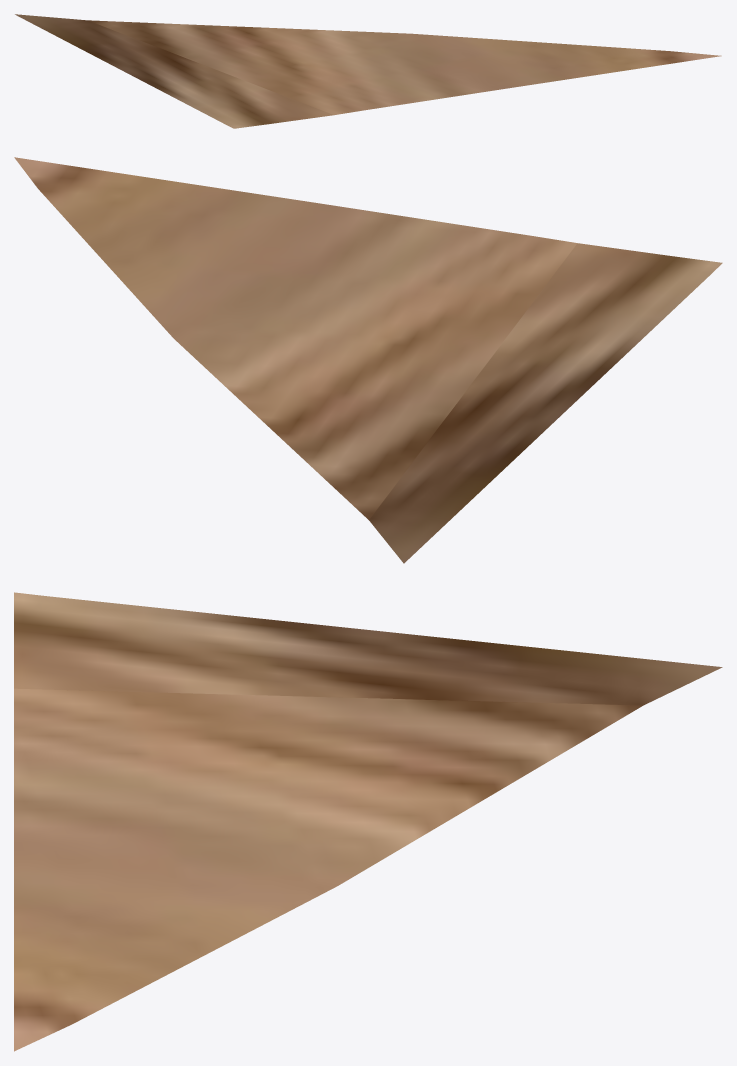
3 views of the same model, one above another, from view 1: azimuth 30°, elevation 25°; view 2: azimuth 150°, elevation 25°; view 3: azimuth 270°, elevation 25° (orthographic). The views are drawn at different scales.
Bounding box in the file's own units: 0.4806 × 0.0436 × 0.3746.
Materials: 1 (1 with a texture image).
